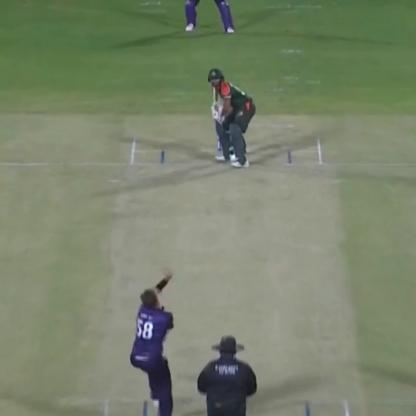bat: (201, 74, 223, 118)
pitch: (96, 132, 346, 416)
